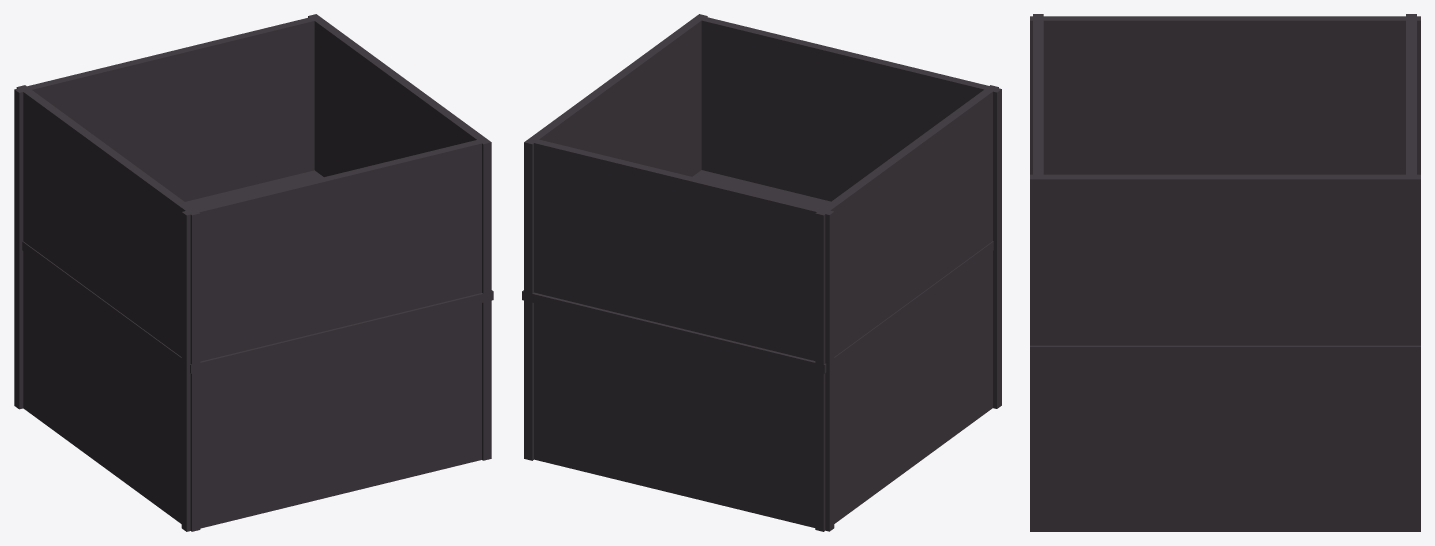
Rendered from stage.fbx.
3 views of the same model, side by side, from view 1: azimuth 30°, elevation 25°; view 2: azimuth 150°, elevation 25°; view 3: azimuth 270°, elevation 25° (orthographic). The views are drawn at different scales.
Visible parts, largest first — view 1: Box004, Box003, Box005, Box002, Box001; view 2: Box005, Box003, Box004, Box002, Box001; view 3: Box002, Box003, Box001, Box004, Box005.
Boxes of the visible parts, x1,y1,x2,y2 form: Box004: (181,138,489,531); Box003: (16,85,200,531); Box005: (14,17,314,409); Box002: (308,14,491,460); Box001: (22,170,493,373); Box005: (534,139,834,531); Box003: (815,85,998,531); Box004: (701,17,1001,408); Box002: (524,14,707,460); Box001: (522,170,993,373); Box002: (1030,174,1420,531); Box003: (1030,16,1420,174); Box001: (1030,345,1420,356); Box004: (1033,14,1043,178); Box005: (1406,14,1416,178).
Bounding box in the file's own units: 140 × 138 × 139.
